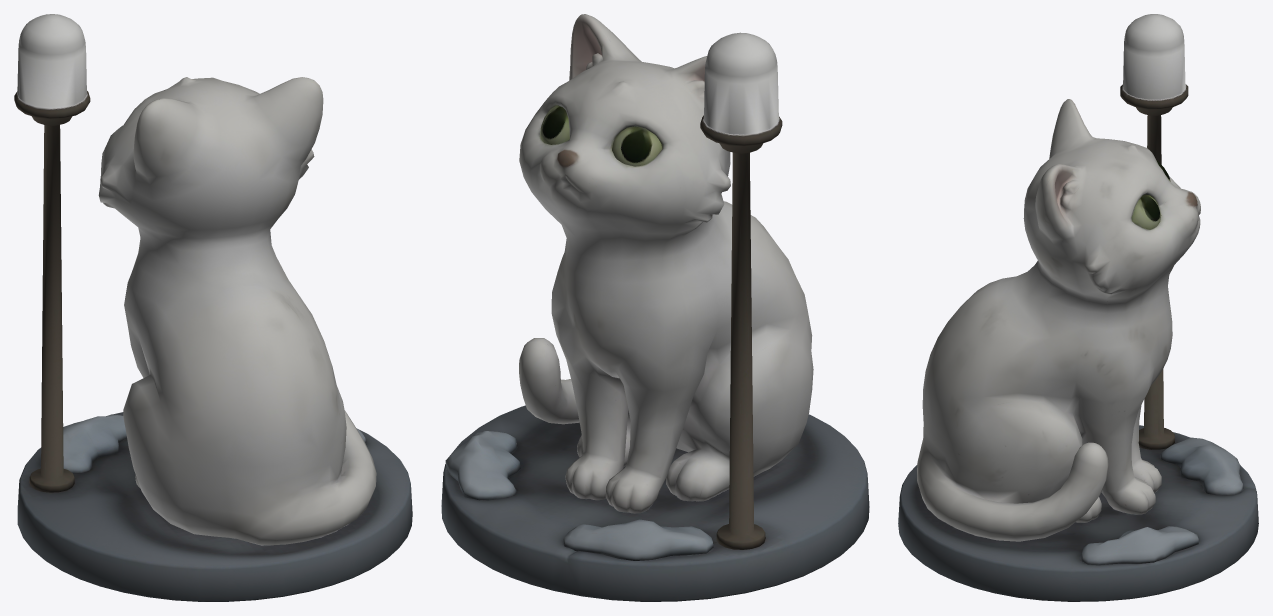
The model's file is figurine-streetlight-cat.glb.
The picture shows the model from 3 angles, left to right: view 1: azimuth 30°, elevation 25°; view 2: azimuth 150°, elevation 25°; view 3: azimuth 270°, elevation 25°; orthographic projection. The views are drawn at different scales.
Visible parts, largest first — view 1: tripo_node_8d81640c-bfc5-449f-ae50-11b0c4e5153f; view 2: tripo_node_8d81640c-bfc5-449f-ae50-11b0c4e5153f; view 3: tripo_node_8d81640c-bfc5-449f-ae50-11b0c4e5153f.
Part boxes in pixels (bbox=[...]): tripo_node_8d81640c-bfc5-449f-ae50-11b0c4e5153f: bbox=[14, 14, 412, 601]; tripo_node_8d81640c-bfc5-449f-ae50-11b0c4e5153f: bbox=[441, 14, 869, 601]; tripo_node_8d81640c-bfc5-449f-ae50-11b0c4e5153f: bbox=[898, 14, 1258, 601].
Bounding box in the file's own units: 0.713 × 0.9995 × 0.7146.
1 material, 1 textured.
